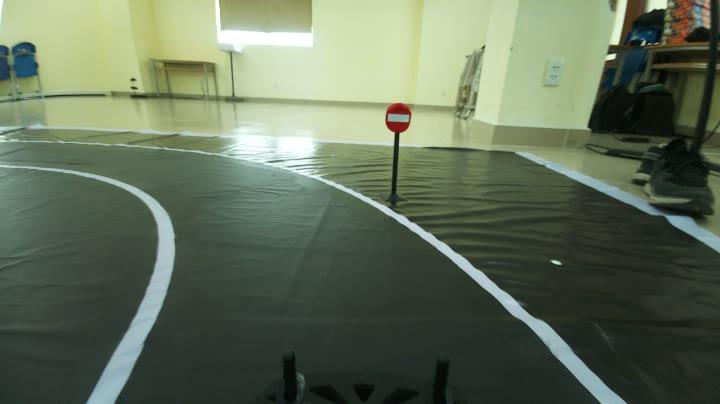no_entry: (374, 99, 424, 144)
